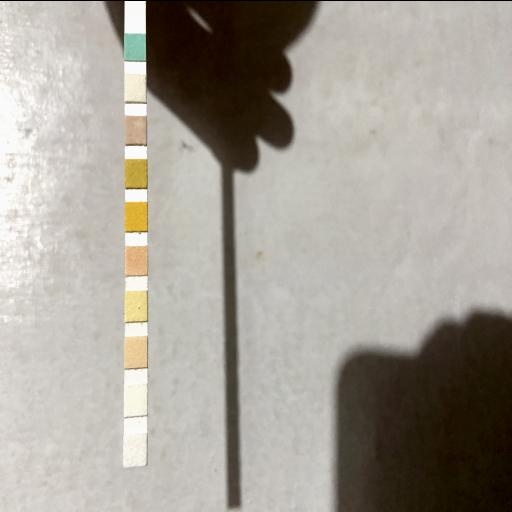Bilirubin: (125, 74, 145, 100)
Blood: (126, 202, 146, 228)
Glucose: (125, 34, 145, 58)
Ketone: (126, 116, 146, 142)
Leukocytes: (126, 436, 146, 462)
Nitrite: (126, 386, 146, 414)
Protein: (126, 292, 147, 319)
SpGravity: (126, 160, 146, 186)
Urobilinogen: (126, 338, 146, 366)
pH: (126, 246, 146, 272)
strip: (125, 0, 147, 466)
